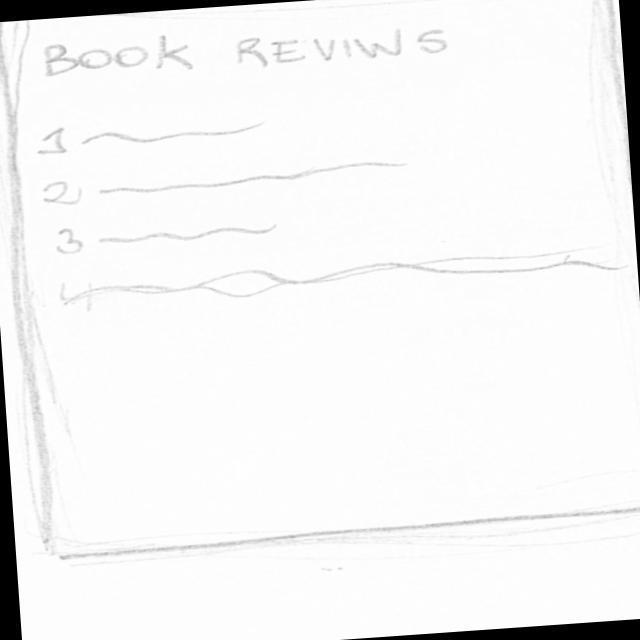container: (1, 1, 640, 561)
label: (31, 11, 464, 94)
text: (48, 238, 630, 317), (93, 154, 410, 202), (77, 113, 277, 156), (86, 217, 285, 249)
